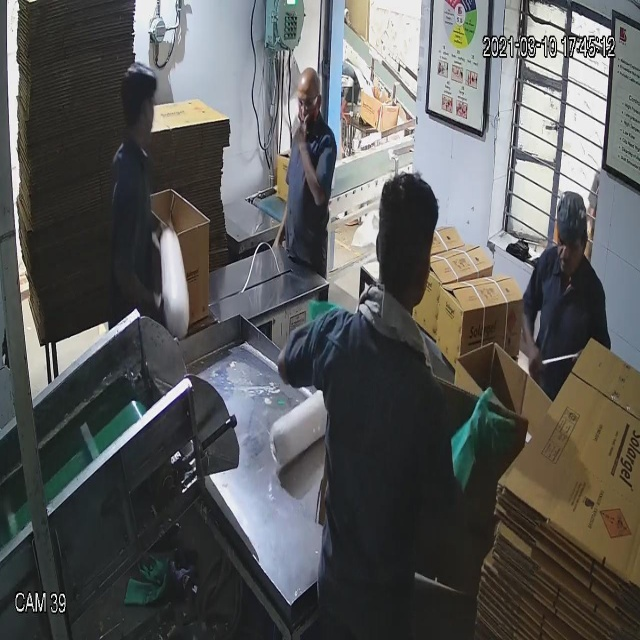Sin_guantes: (288, 120, 336, 220), (109, 259, 173, 332), (512, 284, 546, 404)
